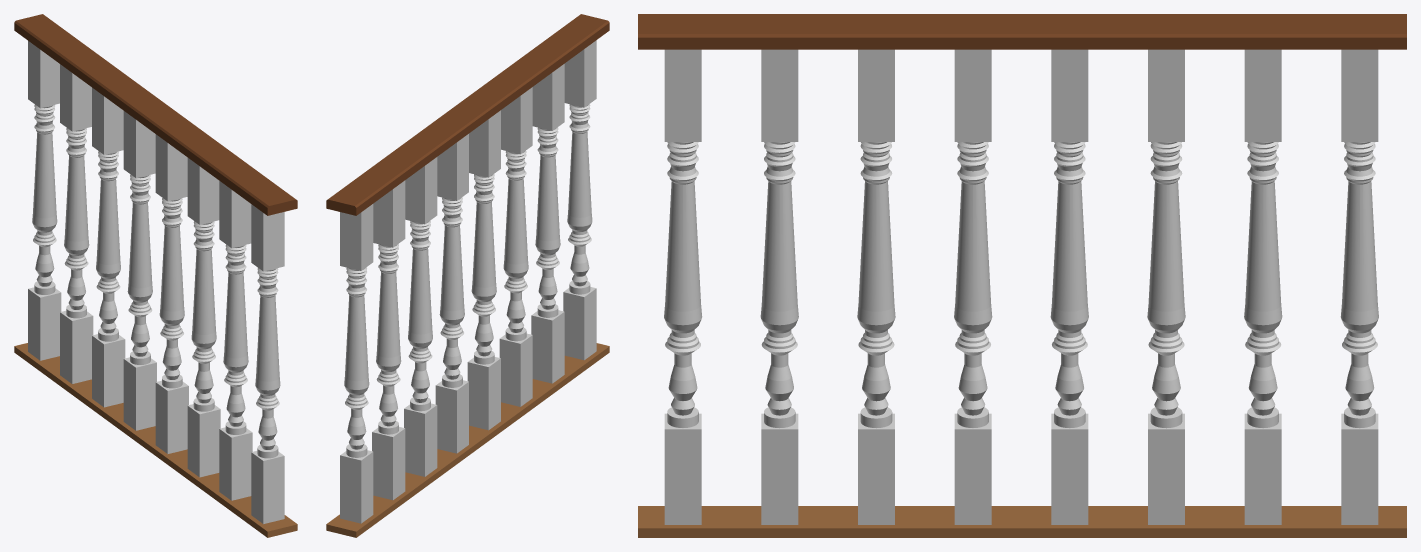
Rendered from Barandilla corta.fbx.
3 views of the same model, side by side, from view 1: azimuth 30°, elevation 25°; view 2: azimuth 150°, elevation 25°; view 3: azimuth 270°, elevation 25° (orthographic). The views are drawn at different scales.
Visible parts, largest first — view 1: Group6, Group35, Group10, Group34, Group26, Group18, Group5, Group14, Group22, Group30, Group9, Group33 (+14 smaller); view 2: Group6, Group35, Group26, Group34, Group10, Group5, Group22, Group18, Group30, Group14, Group17, Group4 (+14 smaller); view 3: Group6, Group35, Group34, Group14, Group5, Group26, Group30, Group22, Group18, Group10, Group25, Group4 (+14 smaller).
Boxes of the visible parts, left/top/right/bottom form: Group6: left=14, top=14, right=297, bottom=215; Group35: left=14, top=343, right=297, bottom=537; Group10: left=255, top=268, right=280, bottom=458; Group34: left=191, top=221, right=216, bottom=411; Group26: left=223, top=244, right=248, bottom=434; Group18: left=32, top=104, right=57, bottom=294; Group5: left=64, top=128, right=89, bottom=318; Group14: left=96, top=151, right=120, bottom=341; Group22: left=159, top=198, right=184, bottom=388; Group30: left=127, top=174, right=152, bottom=364; Group9: left=251, top=451, right=284, bottom=523; Group33: left=187, top=404, right=220, bottom=477; Group6: left=326, top=14, right=609, bottom=215; Group35: left=326, top=343, right=609, bottom=537; Group26: left=535, top=127, right=560, bottom=317; Group34: left=503, top=151, right=528, bottom=341; Group10: left=567, top=104, right=592, bottom=294; Group5: left=376, top=244, right=401, bottom=434; Group22: left=471, top=174, right=496, bottom=364; Group18: left=344, top=267, right=369, bottom=457; Group30: left=439, top=197, right=464, bottom=387; Group14: left=408, top=221, right=432, bottom=411; Group17: left=340, top=450, right=373, bottom=523; Group4: left=372, top=427, right=405, bottom=500; Group6: left=638, top=14, right=1406, bottom=49; Group35: left=638, top=506, right=1406, bottom=537; Group34: left=857, top=142, right=895, bottom=428; Group14: left=1147, top=142, right=1185, bottom=428; Group5: left=1244, top=142, right=1282, bottom=428; Group26: left=760, top=142, right=798, bottom=428; Group30: left=1050, top=142, right=1088, bottom=428; Group22: left=954, top=142, right=992, bottom=427; Group18: left=1340, top=142, right=1378, bottom=428; Group10: left=664, top=142, right=702, bottom=427; Group25: left=761, top=413, right=798, bottom=524; Group4: left=1244, top=413, right=1281, bottom=524.
Bounding box in the file's own units: 100 × 1050 × 1455.
